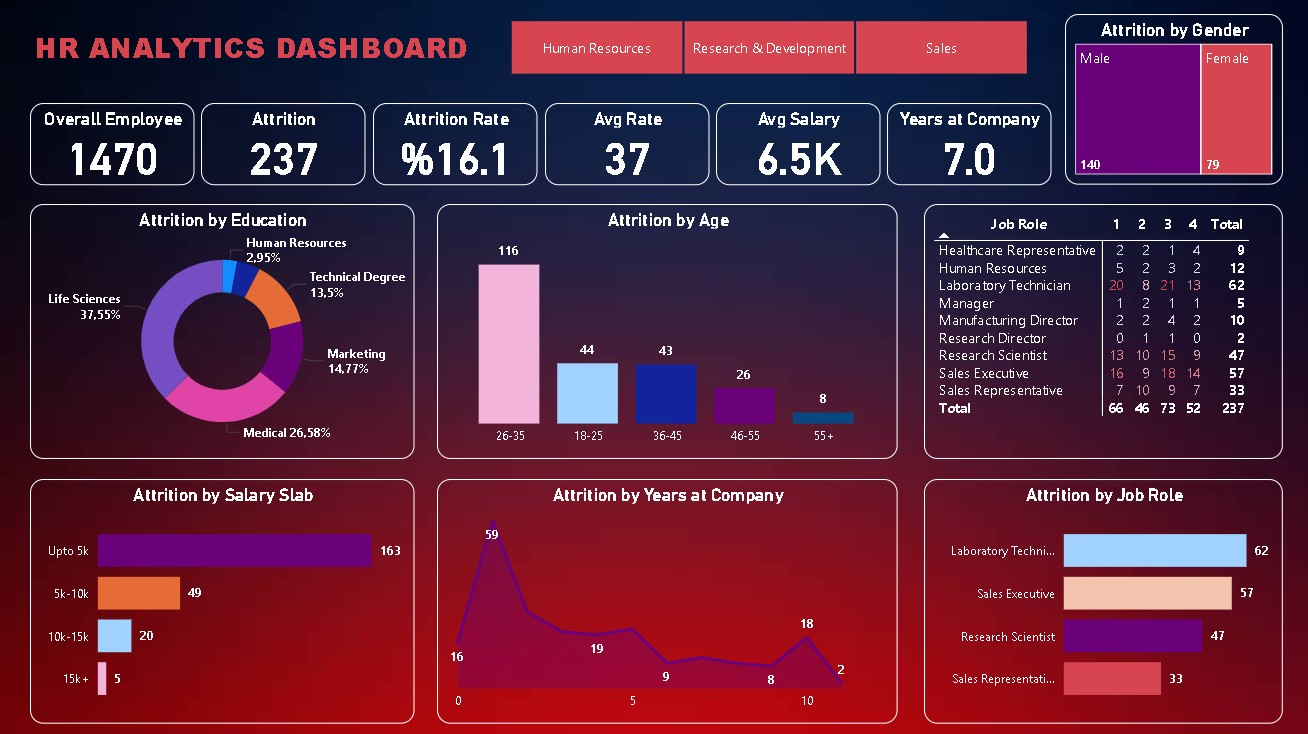

Layout of this report page (visuals, bound fields, positions):
{"tool":"powerbi","page":{"name":"Page 1","canvas":[1280,720],"ordinal":0},"visuals":[{"type":"card","title":"Overall Employee","fields":{"Values":["Count(HR_Analytics.EmpID)"]},"box":[31.1,103.3,160,80],"z":0},{"type":"card","title":"Attrition","fields":{"Values":["Sum(HR_Analytics.AttritionCount)"]},"box":[197,103.3,160.1,80.1],"z":1000},{"type":"card","title":"Attrition Rate","fields":{"Values":["HR_Analytics.AttritionRate"]},"box":[364.5,103.3,160.1,80.1],"z":2000},{"type":"card","title":"Avg Salary","fields":{"Values":["Avg(HR_Analytics.MonthlyIncome)"]},"box":[698.5,103.3,160.1,80.1],"z":3000},{"type":"card","title":"Avg Rate","fields":{"Values":["Avg(HR_Analytics.Age)"]},"box":[532,103.3,160.1,80.1],"z":4000},{"type":"card","title":"Years at Company","fields":{"Values":["Avg(HR_Analytics.YearsAtCompany)"]},"box":[864.9,103.3,160.1,80.1],"z":5000},{"type":"donutChart","title":"Attrition by Education","fields":{"Category":["HR_Analytics.EducationField"],"Y":["Sum(HR_Analytics.AttritionCount)"]},"box":[31.6,201.3,374,247.6],"z":6000},{"type":"columnChart","title":"Attrition by Age","fields":{"Category":["HR_Analytics.AgeGroup"],"Y":["Sum(HR_Analytics.AttritionCount)"]},"box":[426.7,201.3,447.7,247.6],"z":7000},{"type":"pivotTable","fields":{"Rows":["HR_Analytics.JobRole"],"Columns":["HR_Analytics.JobSatisfaction"],"Values":["Sum(HR_Analytics.AttritionCount)"]},"box":[900.7,201.3,348.7,247.6],"z":8000},{"type":"barChart","title":"Attrition by Salary Slab","fields":{"Category":["HR_Analytics.SalarySlab"],"Y":["Sum(HR_Analytics.AttritionCount)"]},"box":[31.6,468.8,374,238.1],"z":9000},{"type":"barChart","title":"Attrition by Job Role","fields":{"Y":["Sum(HR_Analytics.AttritionCount)"],"Category":["HR_Analytics.JobRole"]},"box":[900.7,468.8,348.7,238.1],"z":10000},{"type":"areaChart","title":"Attrition by Years at Company","fields":{"Category":["HR_Analytics.YearsAtCompany"],"Y":["Sum(HR_Analytics.AttritionCount)"]},"box":[426.7,468.8,447.7,238.1],"z":11000},{"type":"treemap","title":"Attrition by Gender","fields":{"Group":["HR_Analytics.Gender"],"Values":["Sum(HR_Analytics.AttritionCount)"]},"box":[1037.7,16.9,211.8,166.5],"z":12000},{"type":"slicer","fields":{"Values":["HR_Analytics.Department"]},"box":[474.1,16.9,551,65.3],"z":13000},{"type":"textbox","box":[31.6,25.3,442.5,65.3],"z":14000}]}

Visuals, with their boxes in screenshot pixels (x1, y1, x2, y2), scaled from the page's 1280x720 canvas onto the 1308x734 screenshot:
"Overall Employee" card: region(32, 105, 195, 187)
"Attrition" card: region(201, 105, 365, 187)
"Attrition Rate" card: region(372, 105, 536, 187)
"Avg Salary" card: region(714, 105, 877, 187)
"Avg Rate" card: region(544, 105, 707, 187)
"Years at Company" card: region(884, 105, 1047, 187)
"Attrition by Education" donutChart: region(32, 205, 414, 458)
"Attrition by Age" columnChart: region(436, 205, 894, 458)
pivotTable - HR_Analytics.JobRole x HR_Analytics.JobSatisfaction: region(920, 205, 1277, 458)
"Attrition by Salary Slab" barChart: region(32, 478, 414, 721)
"Attrition by Job Role" barChart: region(920, 478, 1277, 721)
"Attrition by Years at Company" areaChart: region(436, 478, 894, 721)
"Attrition by Gender" treemap: region(1060, 17, 1277, 187)
slicer - HR_Analytics.Department: region(484, 17, 1048, 84)
textbox: region(32, 26, 484, 92)
